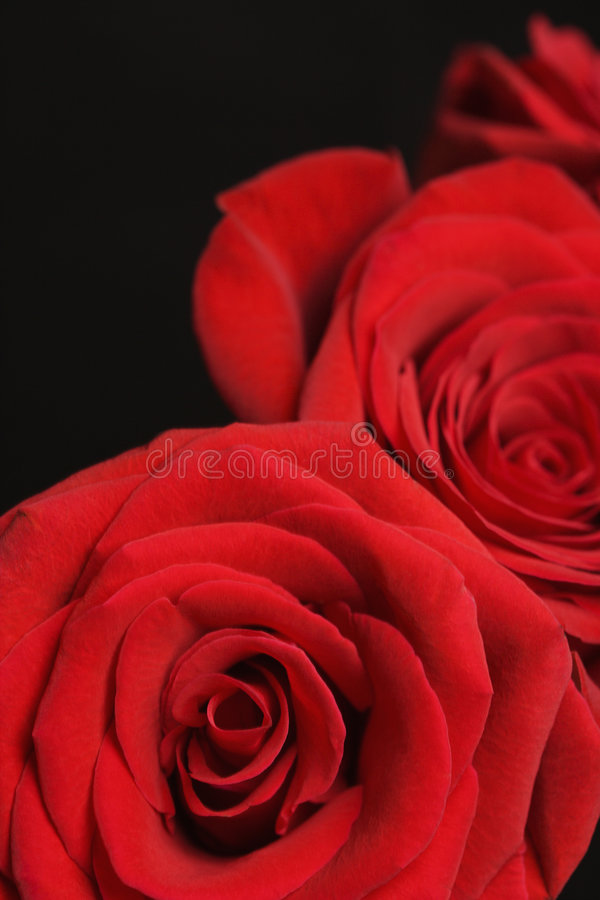RedRose: (49, 430, 600, 900), (322, 223, 600, 511), (191, 164, 466, 415)
